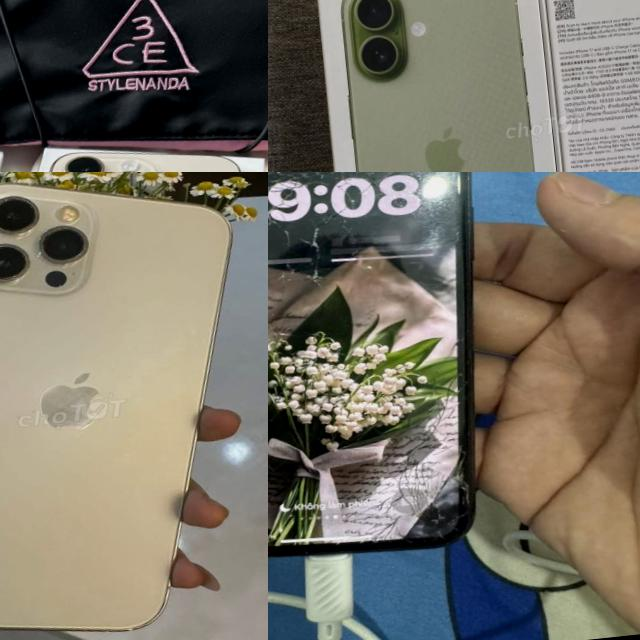gen_12_13: (268, 172, 514, 577)
gen_14: (0, 126, 268, 172)
gen_15: (0, 172, 268, 640)
gen_17: (331, 0, 557, 172)
physical_damage: (418, 372, 492, 438), (344, 497, 414, 552), (411, 494, 479, 547), (286, 251, 355, 301), (436, 332, 491, 389), (407, 424, 473, 468), (283, 212, 338, 260), (408, 461, 474, 501), (356, 454, 412, 499), (336, 205, 386, 252), (268, 179, 319, 219), (314, 182, 364, 212), (268, 258, 290, 312), (359, 172, 421, 189), (268, 216, 286, 259), (310, 172, 360, 185)
